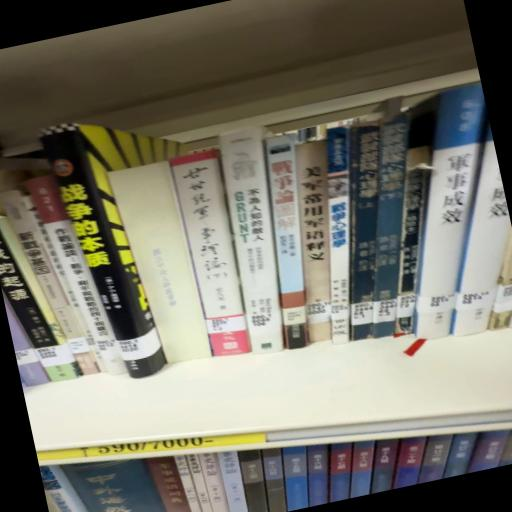backward: (108, 161, 211, 362)
book: (47, 122, 171, 388), (208, 126, 312, 358), (104, 158, 212, 372), (170, 146, 261, 362)
